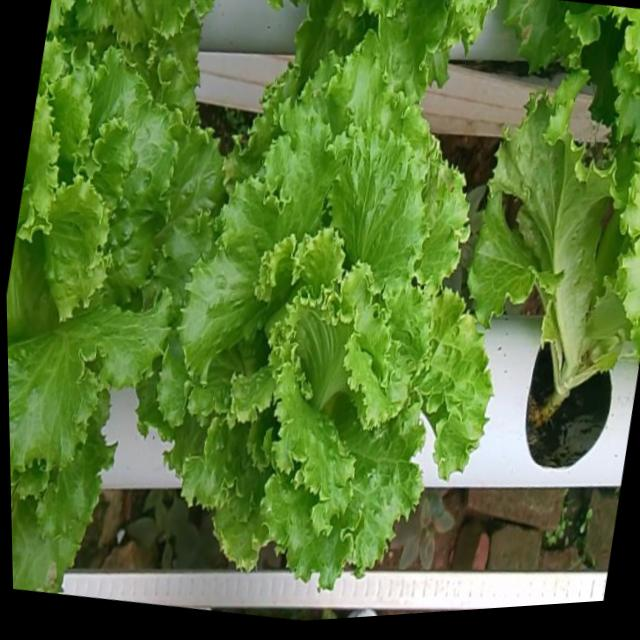Mature: (155, 59, 493, 602), (7, 53, 223, 491)
